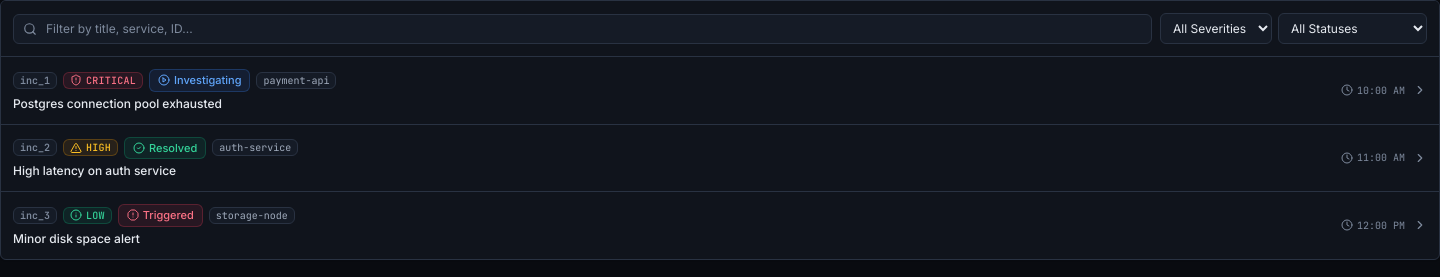
Scenario: IncidentList › filters incidents by status dropdown
Select "Resolved" in the dropdown with test id "filter-status-select" at (1352, 28), box x1=1278 y1=13 x2=1427 y2=44
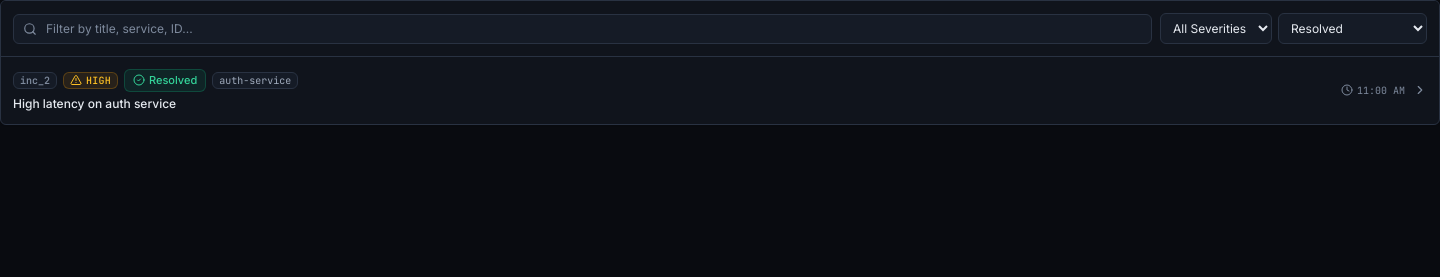
Expected: the heading "High latency on auth service" is shown, x1=13 y1=96 x2=176 y2=110
Now the heading "Postgres connection pool exhausted" is gone
